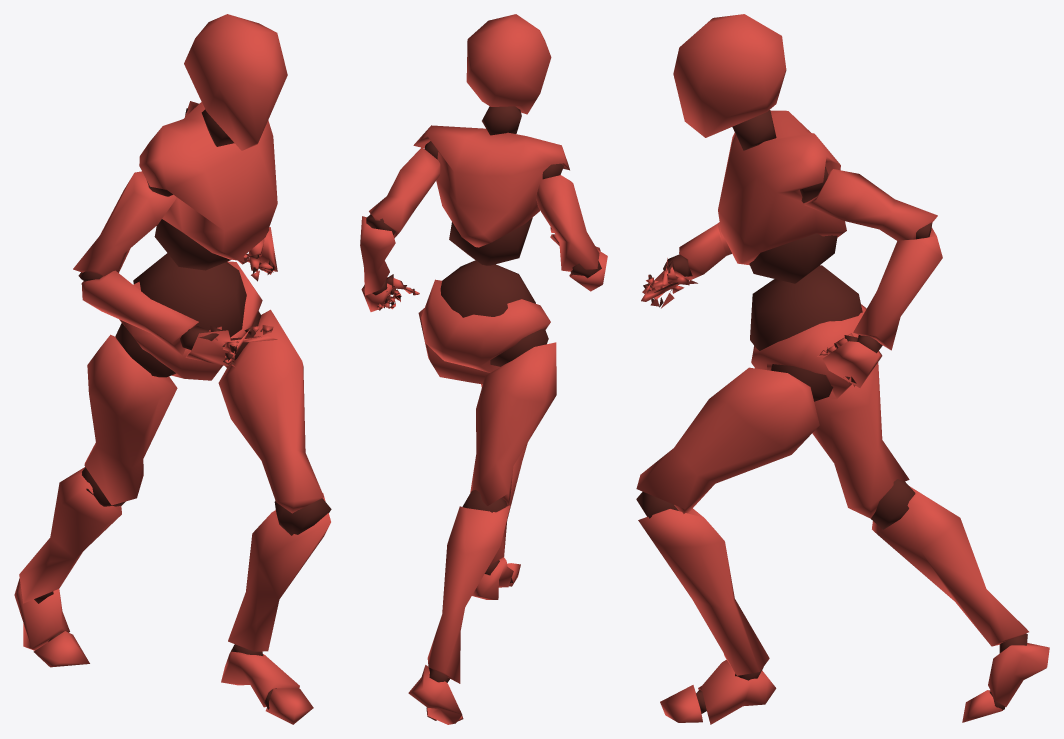
3 views of the same model, side by side, from view 1: azimuth 30°, elevation 25°; view 2: azimuth 150°, elevation 25°; view 3: azimuth 270°, elevation 25° (orthographic). The views are drawn at different scales.
Parts seen in each view (by area): view 1: Beta_Surface.001; view 2: Beta_Surface.001; view 3: Beta_Surface.001.
Boxes of the visible parts, x1=… form: Beta_Surface.001: x1=14, y1=14, x2=331, y2=724; Beta_Surface.001: x1=360, y1=14, x2=607, y2=724; Beta_Surface.001: x1=636, y1=14, x2=1049, y2=724.
Size of the model in its own units: 5.04 by 14.84 by 7.7.
